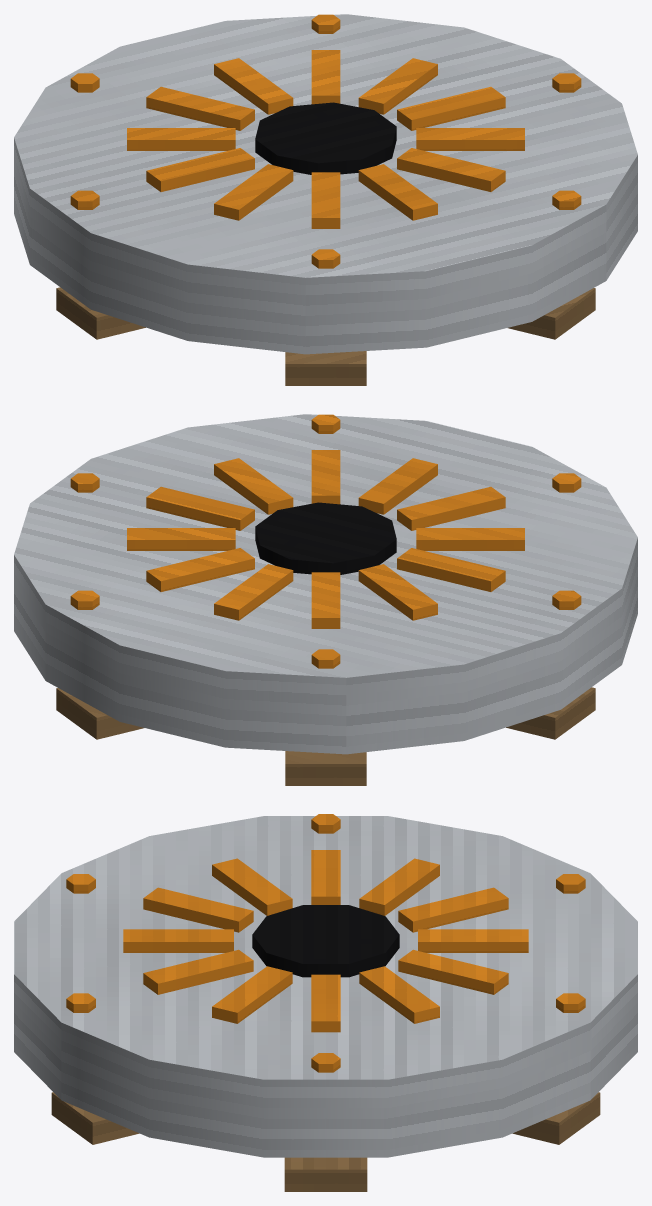
File: embreagem_n3.glb
The picture shows the model from 3 angles, top to bottom: view 1: azimuth 30°, elevation 25°; view 2: azimuth 150°, elevation 25°; view 3: azimuth 270°, elevation 25°; orthographic projection.
Visible parts, largest first — view 1: embreagem_n3; view 2: embreagem_n3; view 3: embreagem_n3.
Part boxes in pixels (x1,y1,x2,y2): embreagem_n3: [14, 14, 637, 385]; embreagem_n3: [14, 414, 637, 785]; embreagem_n3: [14, 814, 637, 1191].
Bounding box in the file's own units: 0.2542 × 0.075 × 0.2542.
2 materials, 2 textured.
